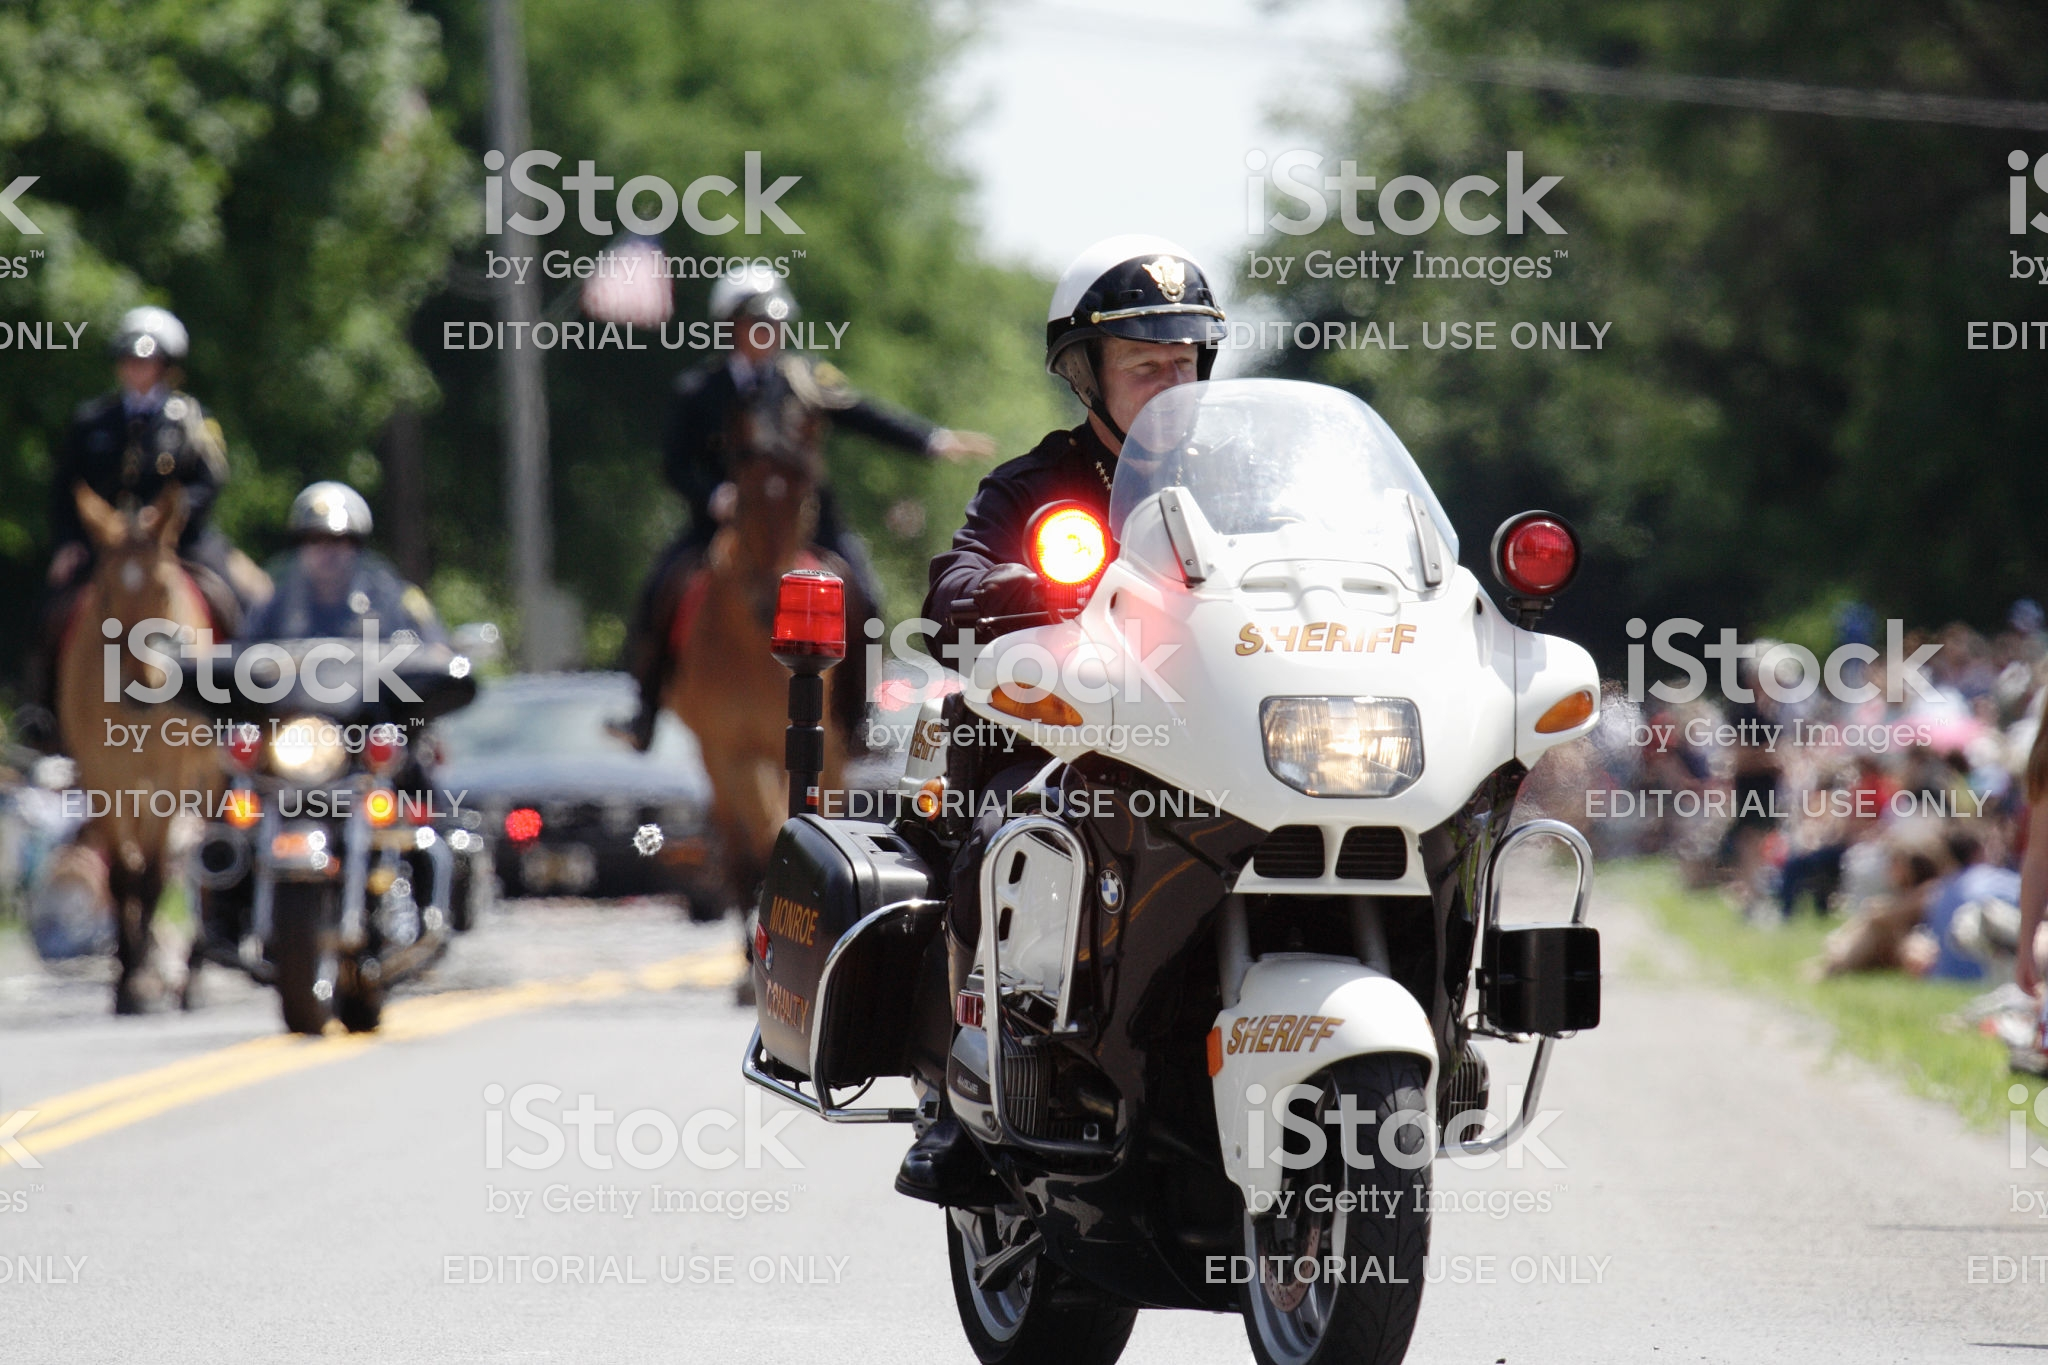helmet: (1040, 204, 1229, 385)
